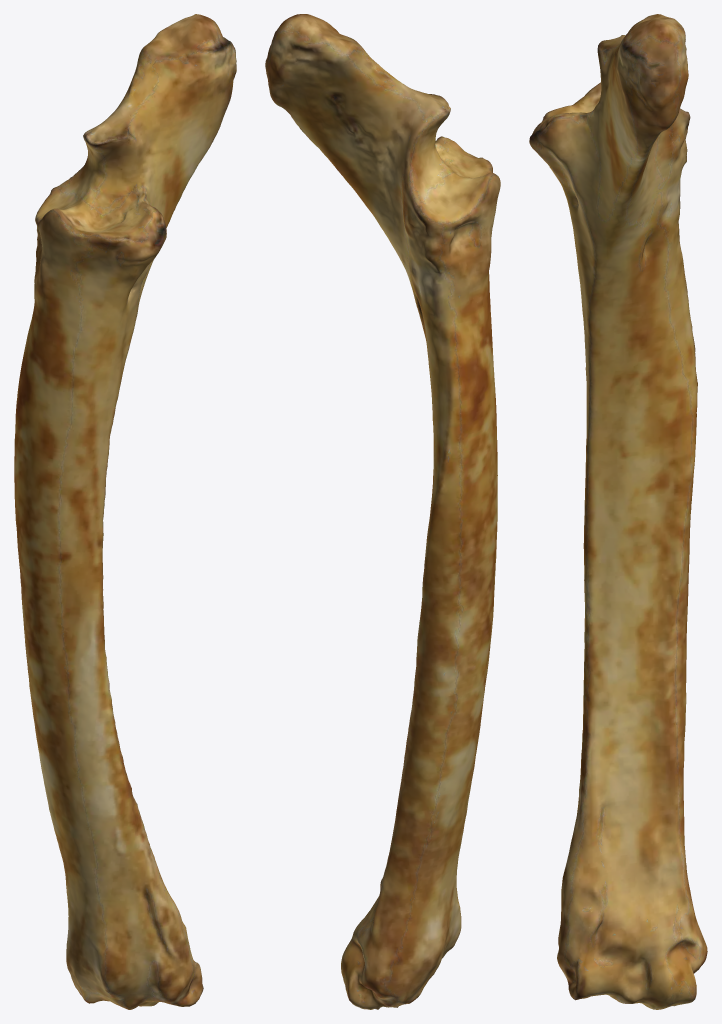
The model's file is radius-ulna.glb.
The picture shows the model from 3 angles, left to right: view 1: azimuth 30°, elevation 25°; view 2: azimuth 150°, elevation 25°; view 3: azimuth 270°, elevation 25°; orthographic projection. The views are drawn at different scales.
Parts seen in each view (by area): view 1: Alpaca Radius Ulna; view 2: Alpaca Radius Ulna; view 3: Alpaca Radius Ulna.
Part boxes in pixels (left/top/right/bottom): Alpaca Radius Ulna: left=14, top=14, right=236, bottom=1009; Alpaca Radius Ulna: left=265, top=14, right=500, bottom=1009; Alpaca Radius Ulna: left=529, top=14, right=707, bottom=1009.
Bounding box in the file's own units: 0.062 × 0.2663 × 0.042.
1 material, 1 textured.
